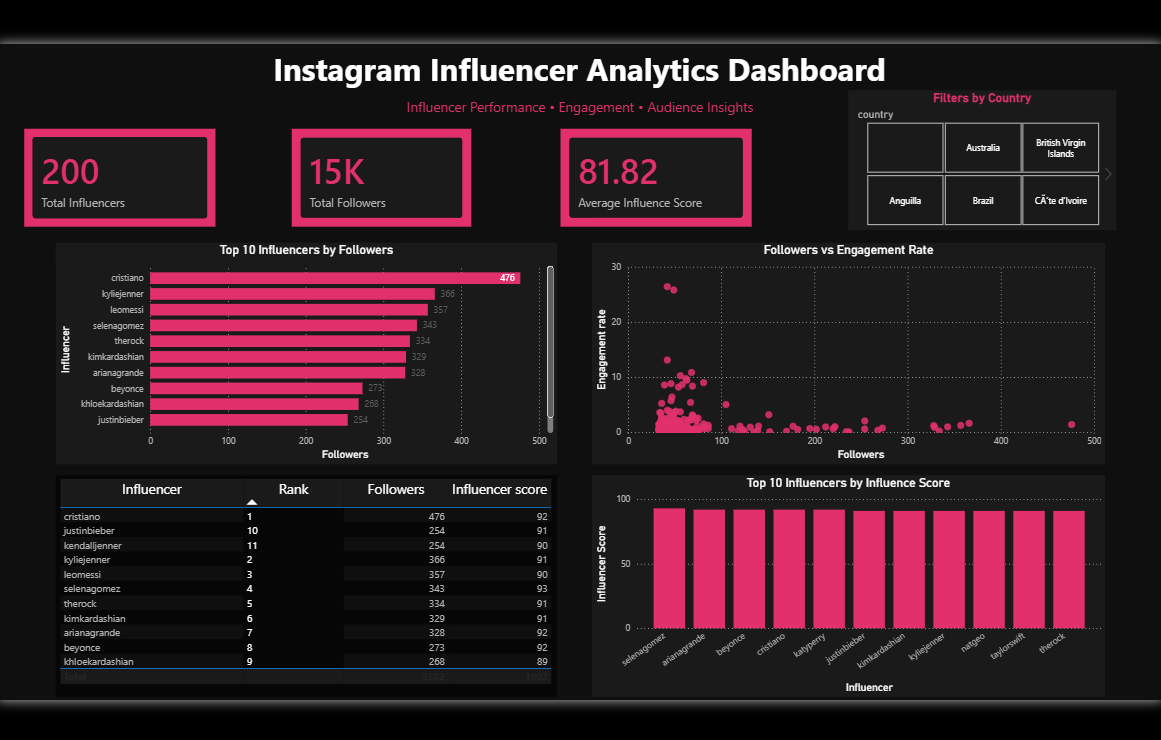

What the dashboard file says about the page in this screenshot:
{"tool":"powerbi","page":{"name":"Page 1","canvas":[1600,900],"ordinal":0},"visuals":[{"type":"textbox","box":[340.3,0,919.4,68.6],"z":0},{"type":"textbox","box":[531.7,68.6,536.5,35.7],"z":1000},{"type":"cardVisual","fields":{"Data":["CountNonNull(top_insta_influencers_data (2).channel_info)"]},"box":[32,112,272,144],"z":2000},{"type":"cardVisual","fields":{"Data":["Sum(top_insta_influencers_data (2).followers)"]},"box":[400,112,256,144],"z":3000},{"type":"cardVisual","fields":{"Data":["Avg(top_insta_influencers_data (2).influence_score)"]},"box":[768,112,272,144],"z":4000},{"type":"clusteredBarChart","title":"Top 10 Influencers by Followers","fields":{"Category":["top_insta_influencers_data (2).channel_info"],"Y":["Sum(top_insta_influencers_data (2).followers)"]},"box":[80,272,688,304],"z":5000},{"type":"scatterChart","title":"Followers vs Engagement Rate","fields":{"X":["Sum(top_insta_influencers_data (2).followers)"],"Y":["Sum(top_insta_influencers_data (2).60_day_eng_rate)"],"Category":["top_insta_influencers_data (2).channel_info"]},"box":[816,272,704,304],"z":6000},{"type":"clusteredColumnChart","title":"Top 10 Influencers by Influence Score","fields":{"Category":["top_insta_influencers_data (2).channel_info"],"Y":["Sum(top_insta_influencers_data (2).influence_score)"]},"box":[816,592,704,304],"z":7000},{"type":"tableEx","fields":{"Values":["top_insta_influencers_data (2).channel_info","top_insta_influencers_data (2).rank","Sum(top_insta_influencers_data (2).followers)","Sum(top_insta_influencers_data (2).influence_score)"]},"box":[80,592,688,304],"z":8000},{"type":"slicer","title":"Filters by Country","fields":{"Values":["top_insta_influencers_data (2).country"]},"box":[1168,64,368,192],"z":9000}]}

Visuals, with their boxes on the page's 1600x900 design canvas (x1, y1, x2, y2). These are canvas units, not pixel positions in the 1161x740 screenshot, which may show the page scaled, cropped or inside an application window:
textbox: bbox=(340, 0, 1260, 69)
textbox: bbox=(532, 69, 1068, 104)
cardVisual - CountNonNull(top_insta_influencers_data (2).channel_info): bbox=(32, 112, 304, 256)
cardVisual - Sum(top_insta_influencers_data (2).followers): bbox=(400, 112, 656, 256)
cardVisual - Avg(top_insta_influencers_data (2).influence_score): bbox=(768, 112, 1040, 256)
"Top 10 Influencers by Followers" clusteredBarChart: bbox=(80, 272, 768, 576)
"Followers vs Engagement Rate" scatterChart: bbox=(816, 272, 1520, 576)
"Top 10 Influencers by Influence Score" clusteredColumnChart: bbox=(816, 592, 1520, 896)
tableEx - top_insta_influencers_data (2).channel_info x top_insta_influencers_data (2).rank: bbox=(80, 592, 768, 896)
"Filters by Country" slicer: bbox=(1168, 64, 1536, 256)
